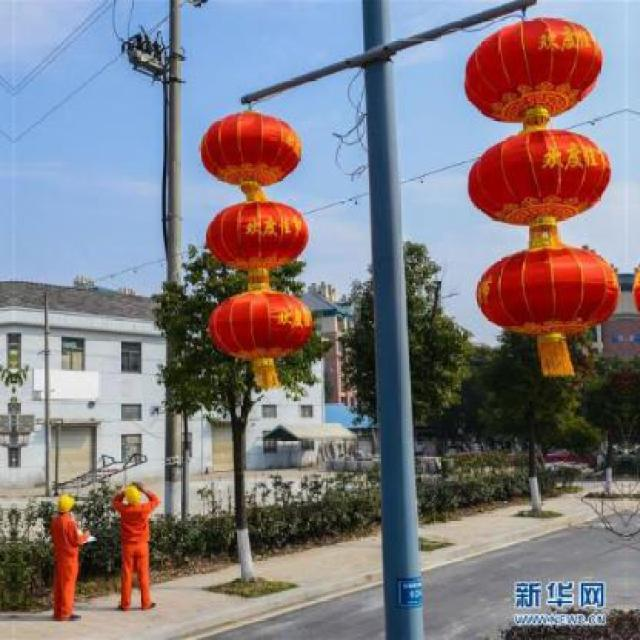helmet: (120, 479, 142, 515), (52, 493, 74, 522)
